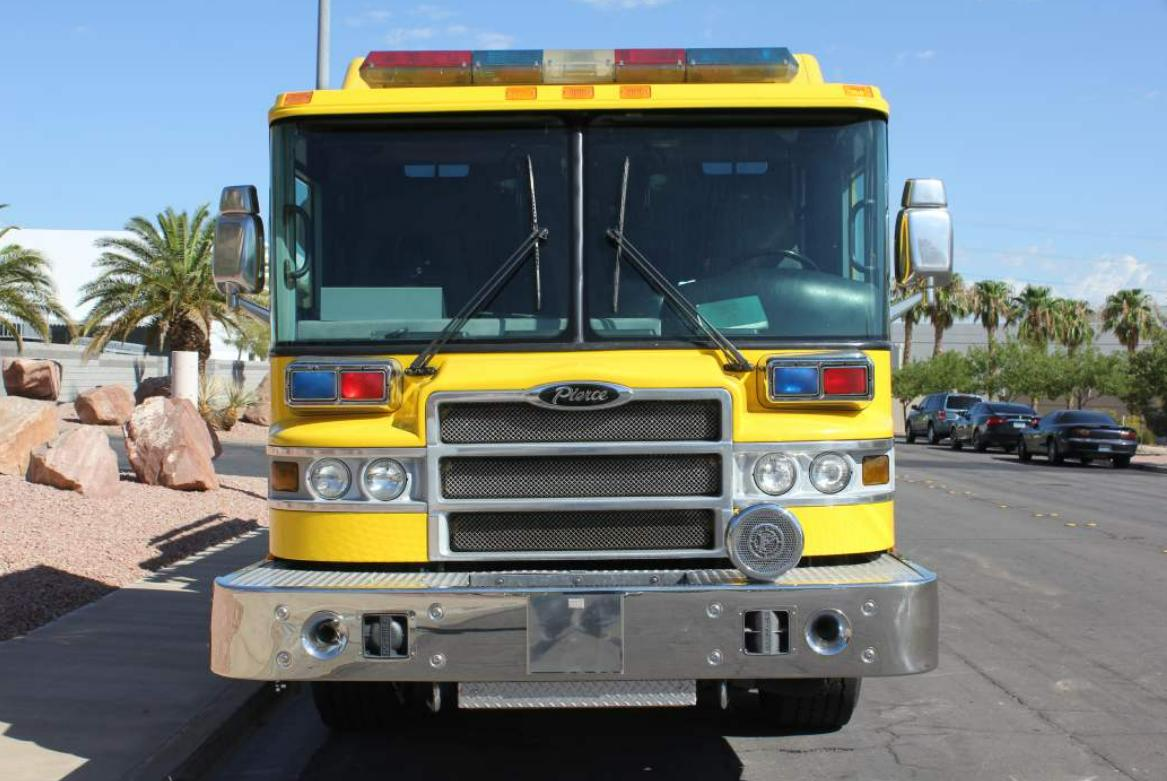firetruck_off: (207, 49, 960, 737)
